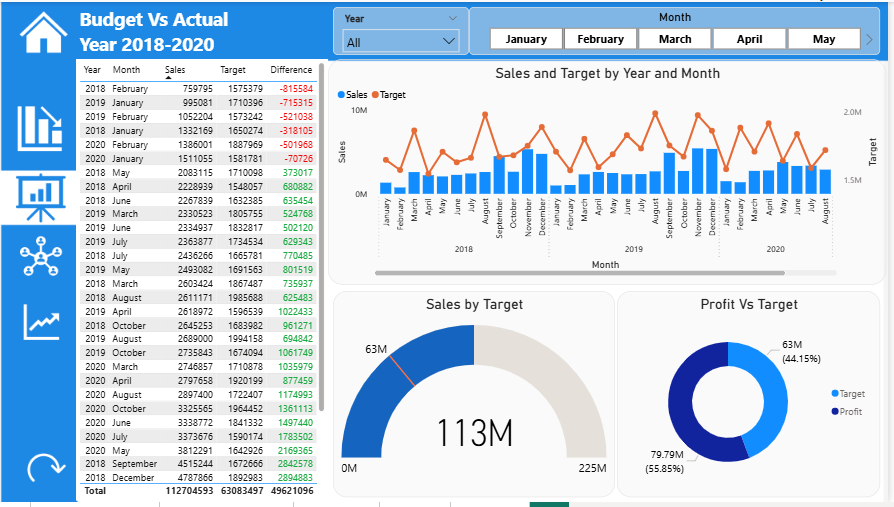

What the dashboard file says about the page in this screenshot:
{"tool":"powerbi","page":{"name":"Budget Vs Actual","canvas":[1280,720],"ordinal":2},"visuals":[{"type":"shape","box":[10.1,0,109.4,80.6],"z":0},{"type":"shape","box":[0,141.1,109.4,80.6],"z":1000},{"type":"shape","box":[0,326.9,109.4,80.6],"z":2000},{"type":"donutChart","title":"Profit Vs Target ","fields":{"Y":["Sum(Budget.Target)","Sum(Sales Data.Profit)"]},"box":[888.5,416.2,378.7,296.6],"z":3000},{"type":"gauge","title":"Sales by Target","fields":{"Y":["Sum(Sales Data.Sales)"],"TargetValue":["Sum(Budget.Target)"]},"box":[479.5,416.2,406.1,296.6],"z":4000},{"type":"tableEx","fields":{"Values":["Calender.Date.Variation.Date Hierarchy.Year","Calender.Date.Variation.Date Hierarchy.Month","Sum(Sales Data.Sales)","Sum(Budget.Target)","Budget.Difference"]},"box":[109.4,82.1,362.9,636.5],"z":5000},{"type":"lineStackedColumnComboChart","title":" Sales and Target by Year and Month","fields":{"Category":["Calender.Date.Variation.Date Hierarchy.Year","Calender.Date.Variation.Date Hierarchy.Month"],"Y":["Sum(Sales Data.Sales)"],"Y2":["Sum(Budget.Target)"]},"box":[472.3,82.1,803.5,325.4],"z":6000},{"type":"shape","box":[0,421.9,109.4,80.6],"z":7000},{"type":"textbox","box":[109.4,0,254.9,82.1],"z":8000},{"type":"slicer","fields":{"Values":["Calender.Year"]},"box":[479.4,7.1,195.8,69.1],"z":9000},{"type":"slicer","title":"Month","fields":{"Values":["Calender.Date.Variation.Date Hierarchy.Month"]},"box":[675.3,7.1,591.8,69.1],"z":10000},{"type":"actionButton","box":[0,626.4,109.4,82.1],"z":11000}]}

Visuals, with their boxes on the page's 1280x720 design canvas (x1, y1, x2, y2). These are canvas units, not pixel positions in the 894x507 screenshot, which may show the page scaled, cropped or inside an application window:
shape: crop(10, 0, 120, 81)
shape: crop(0, 141, 109, 222)
shape: crop(0, 327, 109, 408)
"Profit Vs Target " donutChart: crop(888, 416, 1267, 713)
"Sales by Target" gauge: crop(480, 416, 886, 713)
tableEx - Calender.Date.Variation.Date Hierarchy.Year x Calender.Date.Variation.Date Hierarchy.Month: crop(109, 82, 472, 719)
" Sales and Target by Year and Month" lineStackedColumnComboChart: crop(472, 82, 1276, 408)
shape: crop(0, 422, 109, 502)
textbox: crop(109, 0, 364, 82)
slicer - Calender.Year: crop(479, 7, 675, 76)
"Month" slicer: crop(675, 7, 1267, 76)
actionButton: crop(0, 626, 109, 708)
